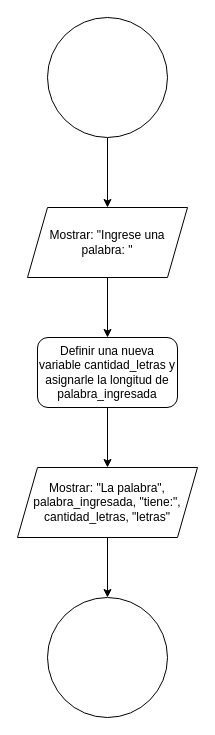
The diagram is 215 pixels wide and 735 high, and some of its shapes have lost their labels. Each missing label, with the centre of its shape:
"FIN" belongs at [107,657].
"Inicio" belongs at [107,77].
